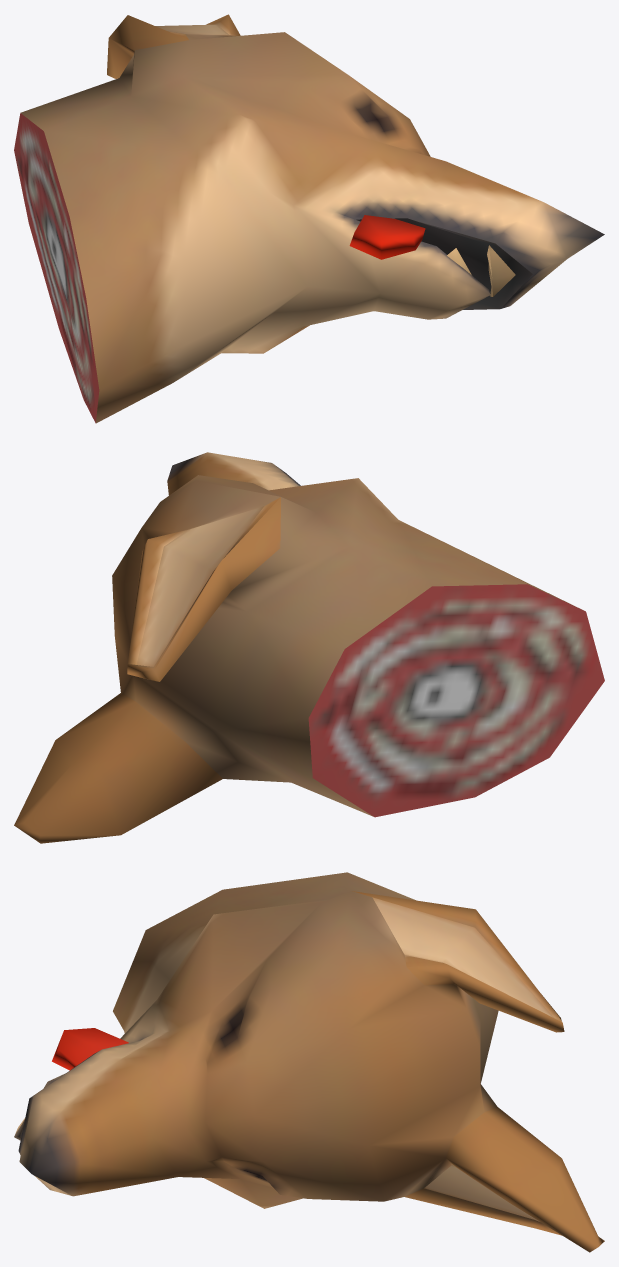
File: CoyotePup_Head.fbx
3 views of the same model, one above another, from view 1: azimuth 30°, elevation 25°; view 2: azimuth 150°, elevation 25°; view 3: azimuth 270°, elevation 25° (orthographic). The views are drawn at different scales.
Parts seen in each view (by area): view 1: Coyote_Head; view 2: Coyote_Head; view 3: Coyote_Head.
Part boxes in pixels (box(x1,y1,x2,y2)): Coyote_Head: box(14, 14, 604, 423); Coyote_Head: box(14, 452, 604, 843); Coyote_Head: box(14, 872, 604, 1252).
Bounding box in the file's own units: 0.1407 × 0.0842 × 0.1488.
